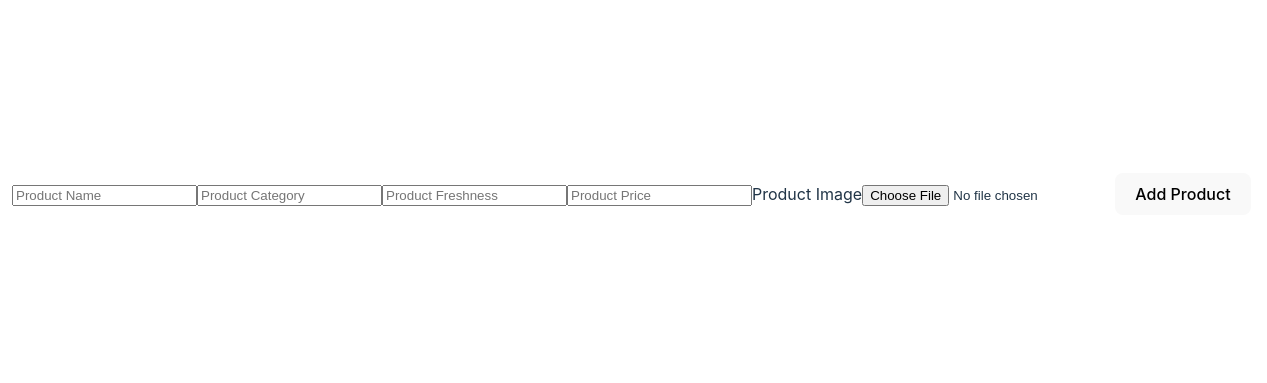
CreateProduct Component › should not allow Product Name to contain special characters (@, #, {, })
The width and height of the screenshot is (1267, 383).
In the field with placeholder "Product Name": (104, 196) [12,185,197,206], type "Invalid@Name"
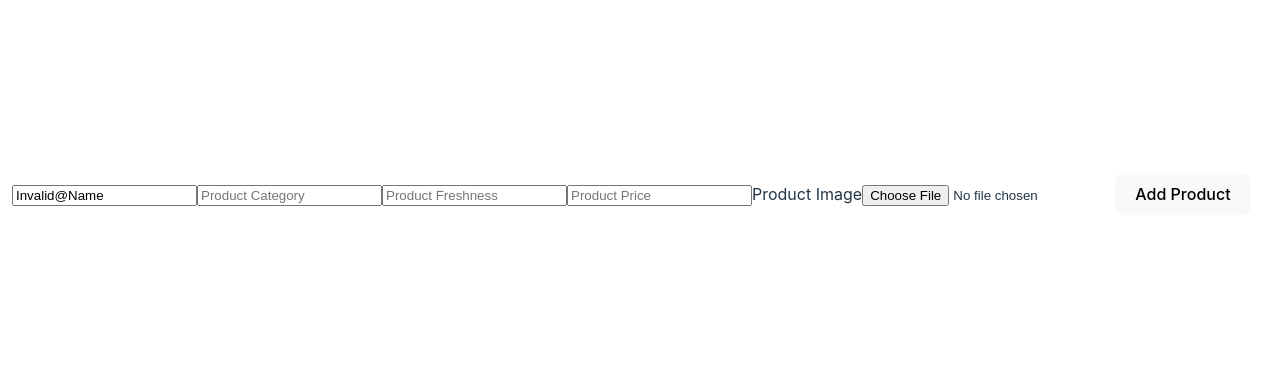
Click the button "Add Product": (1183, 194) [1115,173,1251,215]
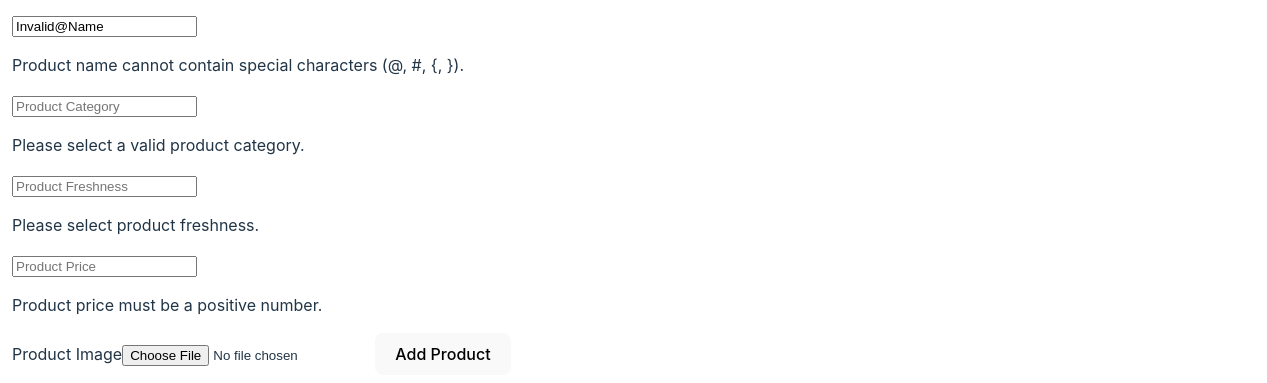
Expected: the text "Product name cannot contain special characters (@, #, {, })." is shown, [12,53,511,77]
